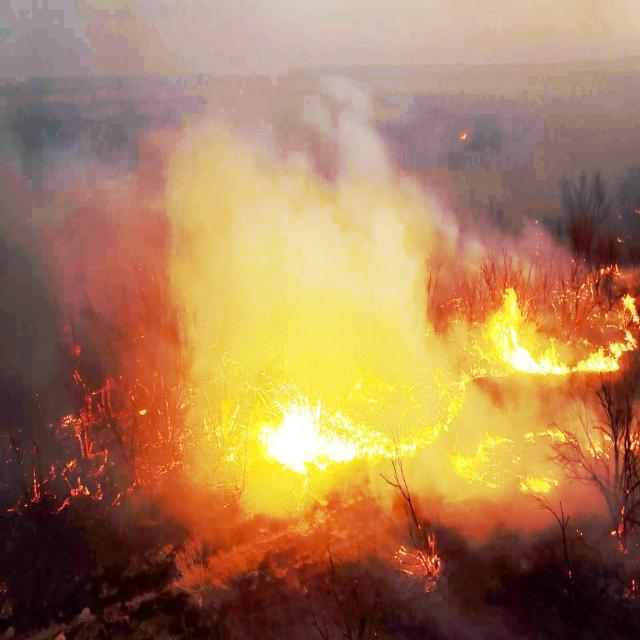Fire: (253, 373, 364, 478), (52, 391, 130, 514), (353, 384, 440, 471), (530, 337, 640, 387), (484, 270, 531, 368), (6, 430, 49, 521), (619, 291, 640, 330), (457, 128, 470, 142)
Smoke: (175, 102, 422, 376)
